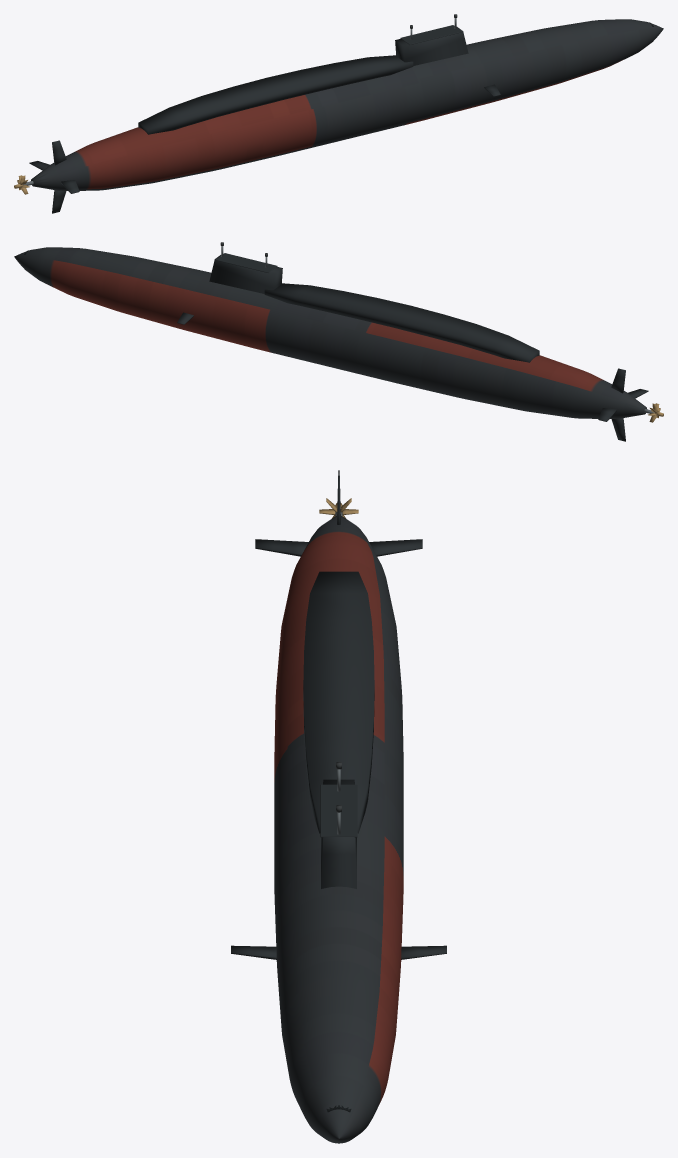
Rendered from RU_SSBN_Yankee_LOD1.fbx.
The picture shows the model from 3 angles, top to bottom: view 1: azimuth 30°, elevation 25°; view 2: azimuth 150°, elevation 25°; view 3: azimuth 270°, elevation 25°; orthographic projection. The views are drawn at different scales.
Visible parts, largest first — view 1: RU_SSBN_Yankee_LOD1; view 2: RU_SSBN_Yankee_LOD1; view 3: RU_SSBN_Yankee_LOD1.
Boxes of the visible parts, box(x1,y1,x2,y2) form: RU_SSBN_Yankee_LOD1: box(14, 14, 663, 213); RU_SSBN_Yankee_LOD1: box(14, 242, 663, 441); RU_SSBN_Yankee_LOD1: box(231, 470, 446, 1143).
Size of the model in its own units: 136 by 19.55 by 20.02.
Materials: 6 (1 with a texture image).
